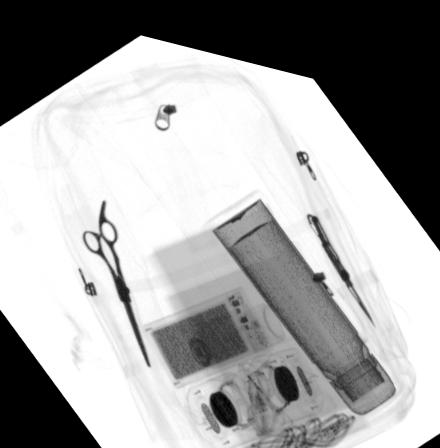Knife: (304, 197, 381, 314)
Powerbank: (140, 271, 273, 383)
Scissors: (82, 194, 154, 362)
Sprayer: (169, 289, 287, 366)
